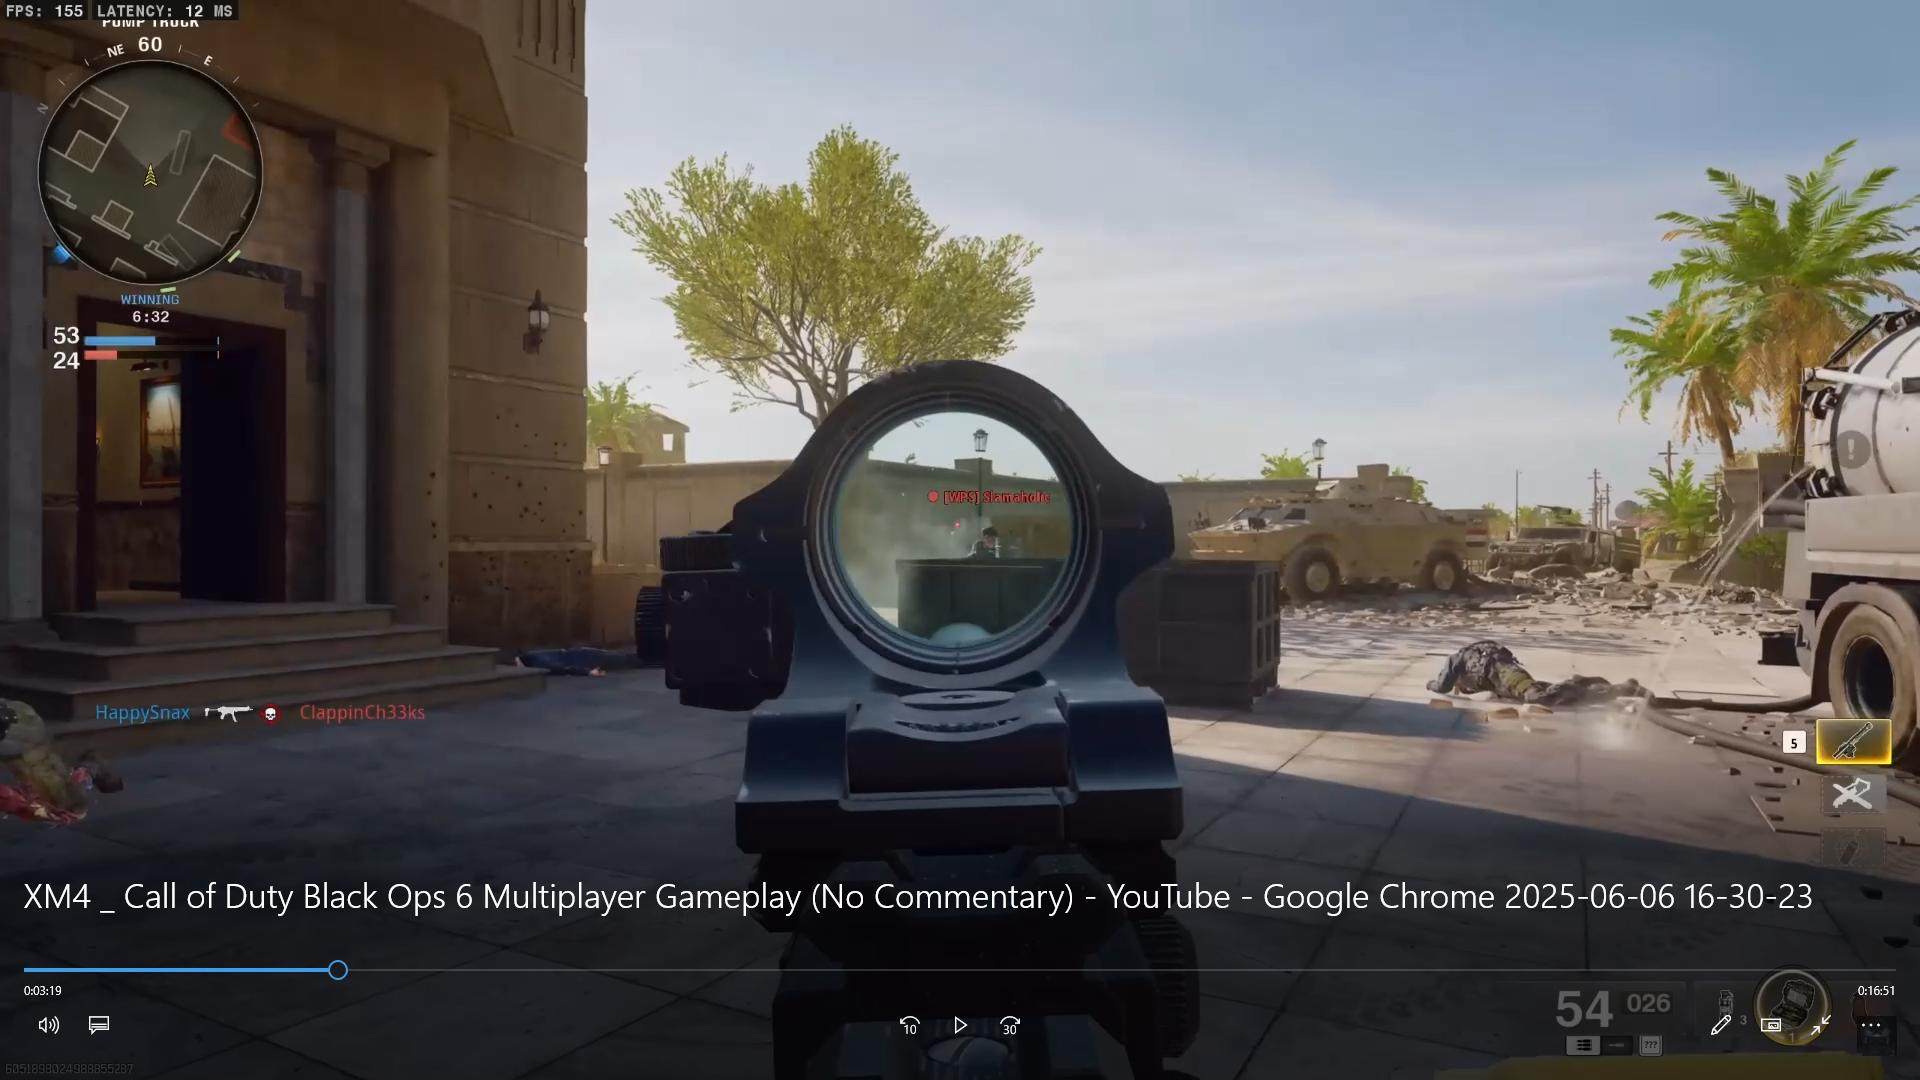Enemy: (938, 467, 1034, 564)
